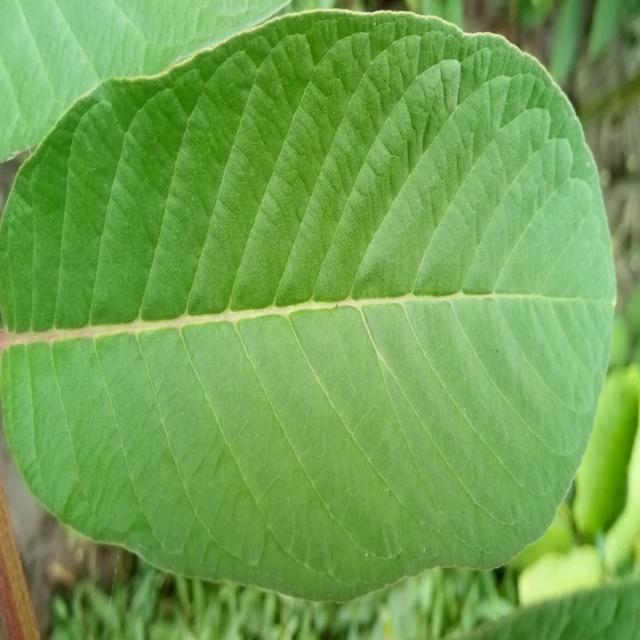Disease Free: (0, 0, 615, 598)
